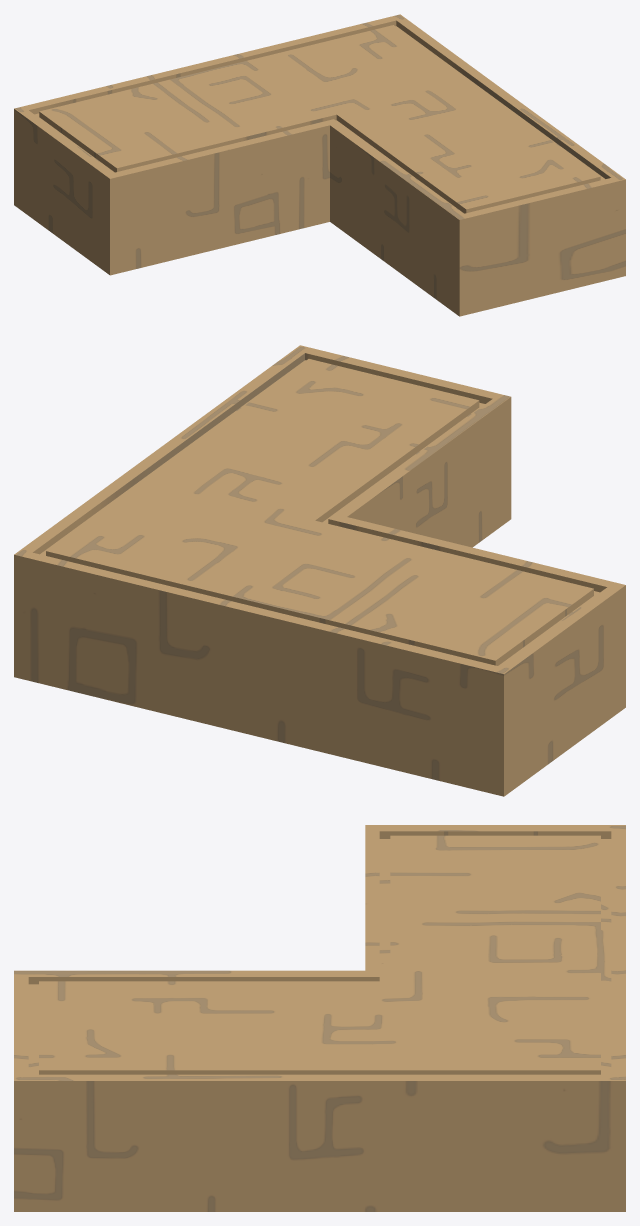
The model's file is Mesh_Platform_Corner_Big.glb.
3 views of the same model, one above another, from view 1: azimuth 30°, elevation 25°; view 2: azimuth 150°, elevation 25°; view 3: azimuth 270°, elevation 25° (orthographic). The views are drawn at different scales.
Parts seen in each view (by area): view 1: Cube.024; view 2: Cube.024; view 3: Cube.024.
Boxes of the visible parts, left/top/right/bottom form: Cube.024: left=14, top=14, right=625, bottom=316; Cube.024: left=14, top=345, right=625, bottom=796; Cube.024: left=14, top=825, right=625, bottom=1211.
Size of the model in its own units: 29.31 by 7 by 29.65.
1 material, 1 textured.
